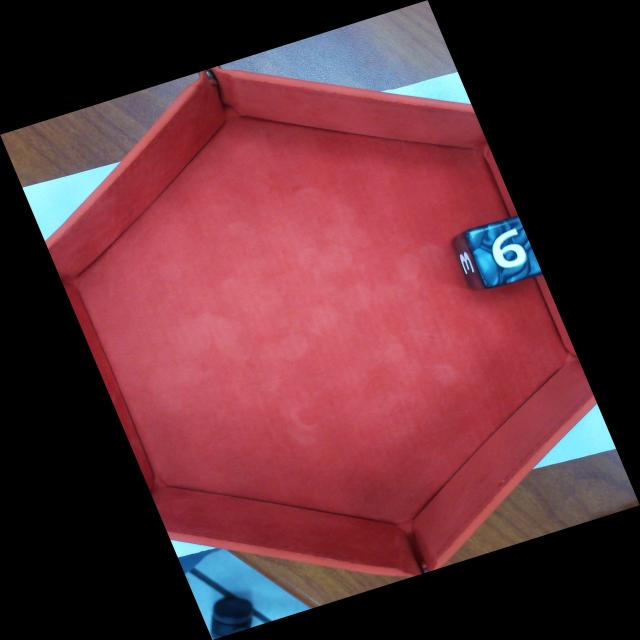dice: (469, 217, 544, 289)
